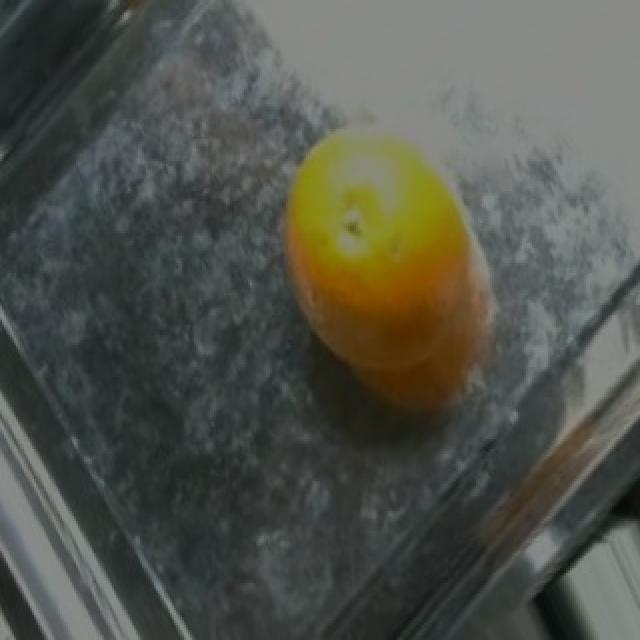Fruit: (256, 107, 514, 461)
